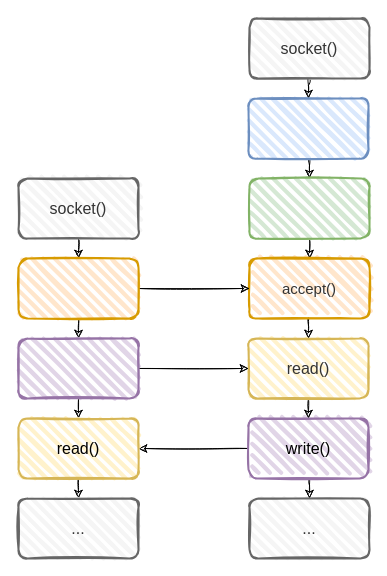
The diagram is 387 pixels wide and 576 high, and some of its shapes have lost their labels. The shapes that lost their labels are listed below. From the top down, each one's box as (x1, y1, x2, y2) in pixels, then its label:
(247, 97, 369, 159): bind()
(248, 177, 370, 239): listen()
(17, 257, 139, 319): connect()
(17, 337, 139, 399): write ()
